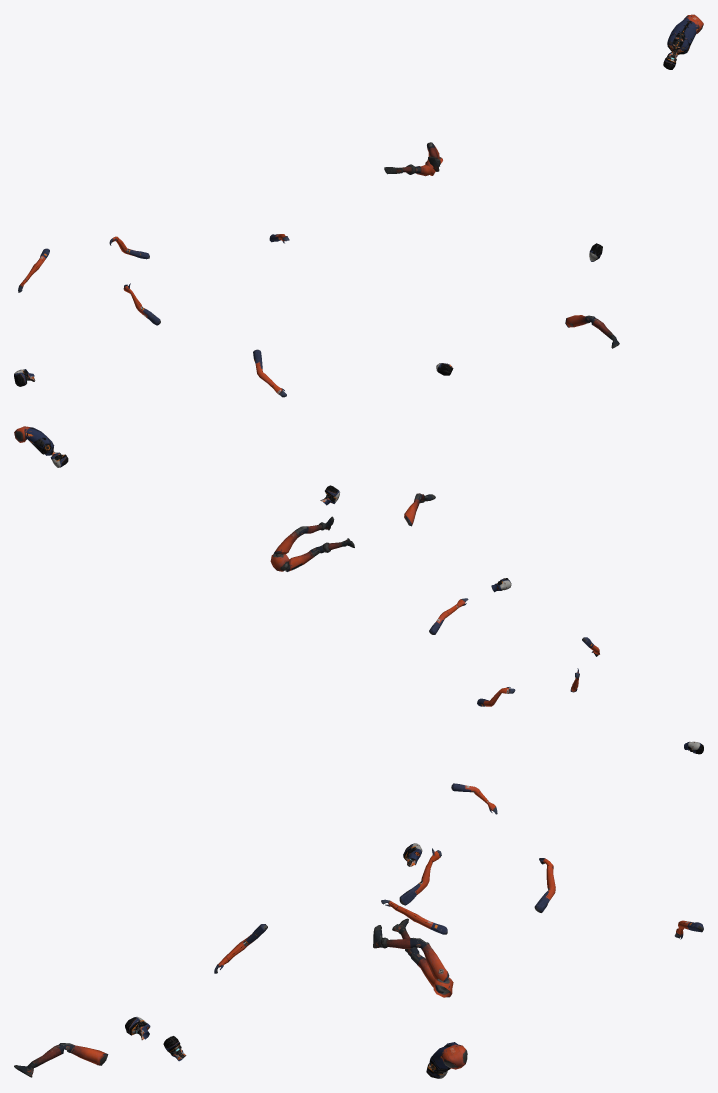
Rendered from MOD_traptionDebris.fbx.
3 renders of one model, top to bottom at view 1: azimuth 30°, elevation 25°; view 2: azimuth 150°, elevation 25°; view 3: azimuth 270°, elevation 25°, orthographic. The views are drawn at different scales.
Visible parts, largest first — view 1: MOD_traptionDebris; view 2: MOD_traptionDebris; view 3: MOD_traptionDebris.
Boxes of the visible parts, left/top/right/bottom form: MOD_traptionDebris: left=14, top=14, right=703, bottom=397; MOD_traptionDebris: left=14, top=426, right=703, bottom=814; MOD_traptionDebris: left=14, top=843, right=703, bottom=1078.
Bounding box in the file's own units: 1067 × 289 × 724.
